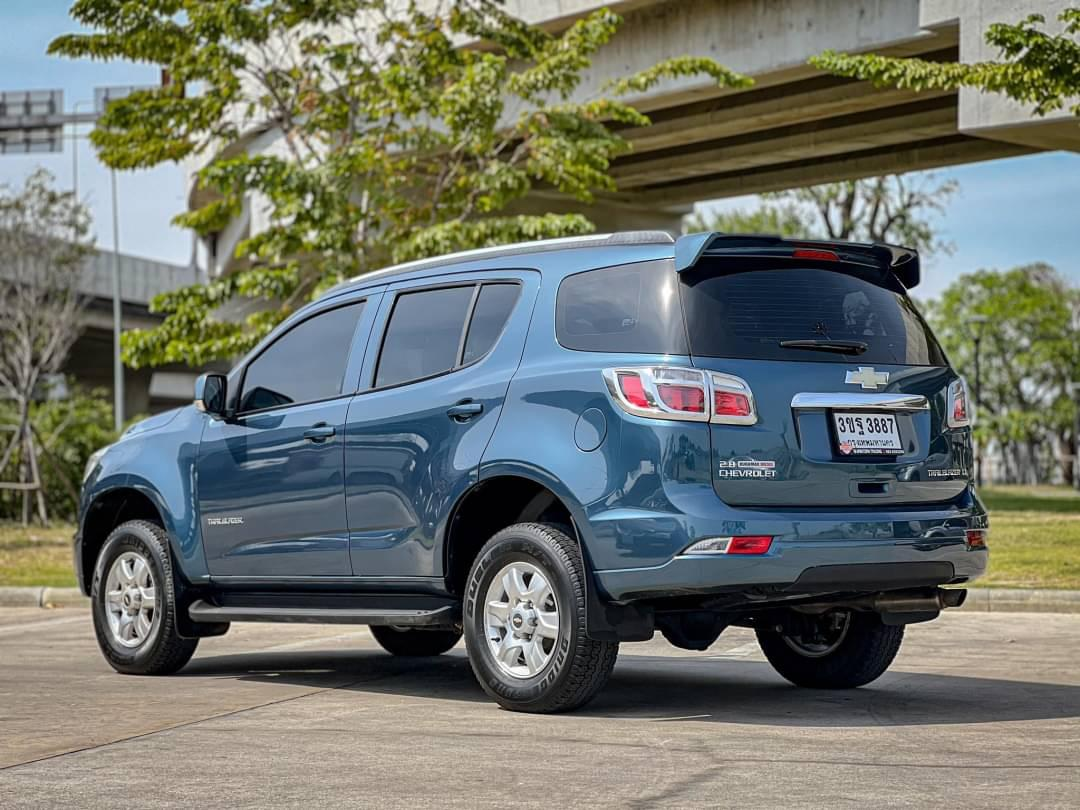license-plate: (827, 408, 908, 459)
